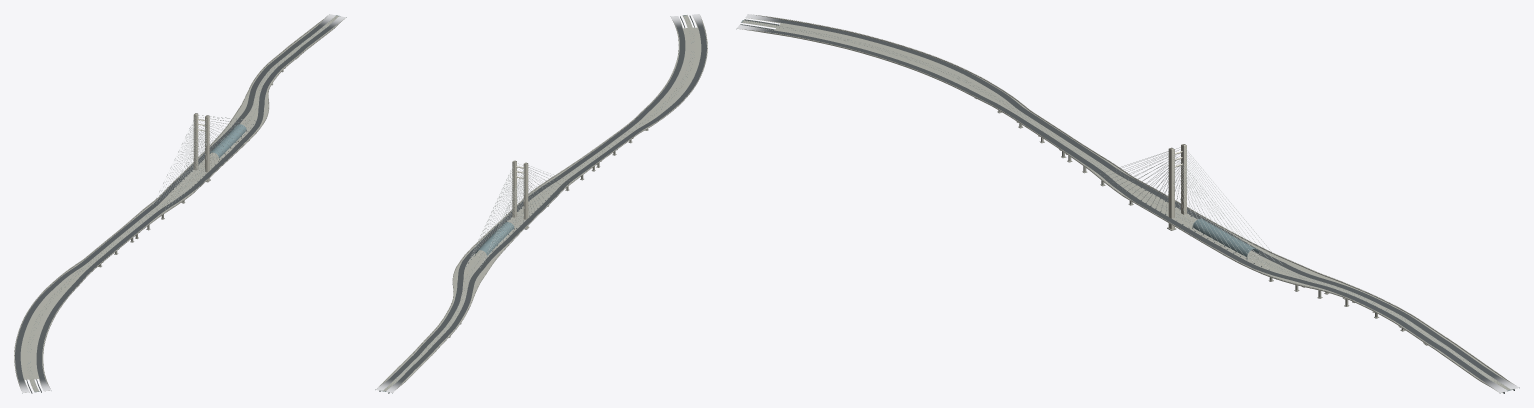
Rendered from basarab-overpass-far.glb.
The picture shows the model from 3 angles, left to right: view 1: azimuth 30°, elevation 25°; view 2: azimuth 210°, elevation 25°; view 3: azimuth 270°, elevation 25°; orthographic projection. The views are drawn at different scales.
Visible parts, largest first — view 1: basarab-overpass-0-concrete, basarab-overpass-0-asphalt, basarab-overpass-0-cable, basarab-overpass-0-tower, basarab-overpass-0-glass, basarab-overpass-0-rail; view 2: basarab-overpass-0-concrete, basarab-overpass-0-asphalt, basarab-overpass-0-cable, basarab-overpass-0-tower, basarab-overpass-0-glass, basarab-overpass-0-rail; view 3: basarab-overpass-0-concrete, basarab-overpass-0-asphalt, basarab-overpass-0-cable, basarab-overpass-0-tower, basarab-overpass-0-glass.
Boxes of the visible parts, left/top/right/bottom form: basarab-overpass-0-concrete: left=14, top=15, right=345, bottom=392; basarab-overpass-0-asphalt: left=15, top=14, right=345, bottom=392; basarab-overpass-0-cable: left=152, top=115, right=255, bottom=208; basarab-overpass-0-tower: left=193, top=113, right=209, bottom=181; basarab-overpass-0-glass: left=209, top=124, right=246, bottom=157; basarab-overpass-0-rail: left=22, top=15, right=346, bottom=393; basarab-overpass-0-concrete: left=376, top=15, right=707, bottom=392; basarab-overpass-0-asphalt: left=376, top=14, right=706, bottom=392; basarab-overpass-0-cable: left=467, top=163, right=567, bottom=267; basarab-overpass-0-tower: left=512, top=160, right=528, bottom=228; basarab-overpass-0-glass: left=475, top=222, right=513, bottom=255; basarab-overpass-0-rail: left=375, top=15, right=694, bottom=393; basarab-overpass-0-concrete: left=737, top=15, right=1517, bottom=392; basarab-overpass-0-asphalt: left=737, top=14, right=1518, bottom=392; basarab-overpass-0-cable: left=1101, top=147, right=1281, bottom=268; basarab-overpass-0-tower: left=1168, top=144, right=1186, bottom=229; basarab-overpass-0-glass: left=1192, top=219, right=1258, bottom=256.
Bounding box in the file's own units: 957 × 96.55 × 836.
